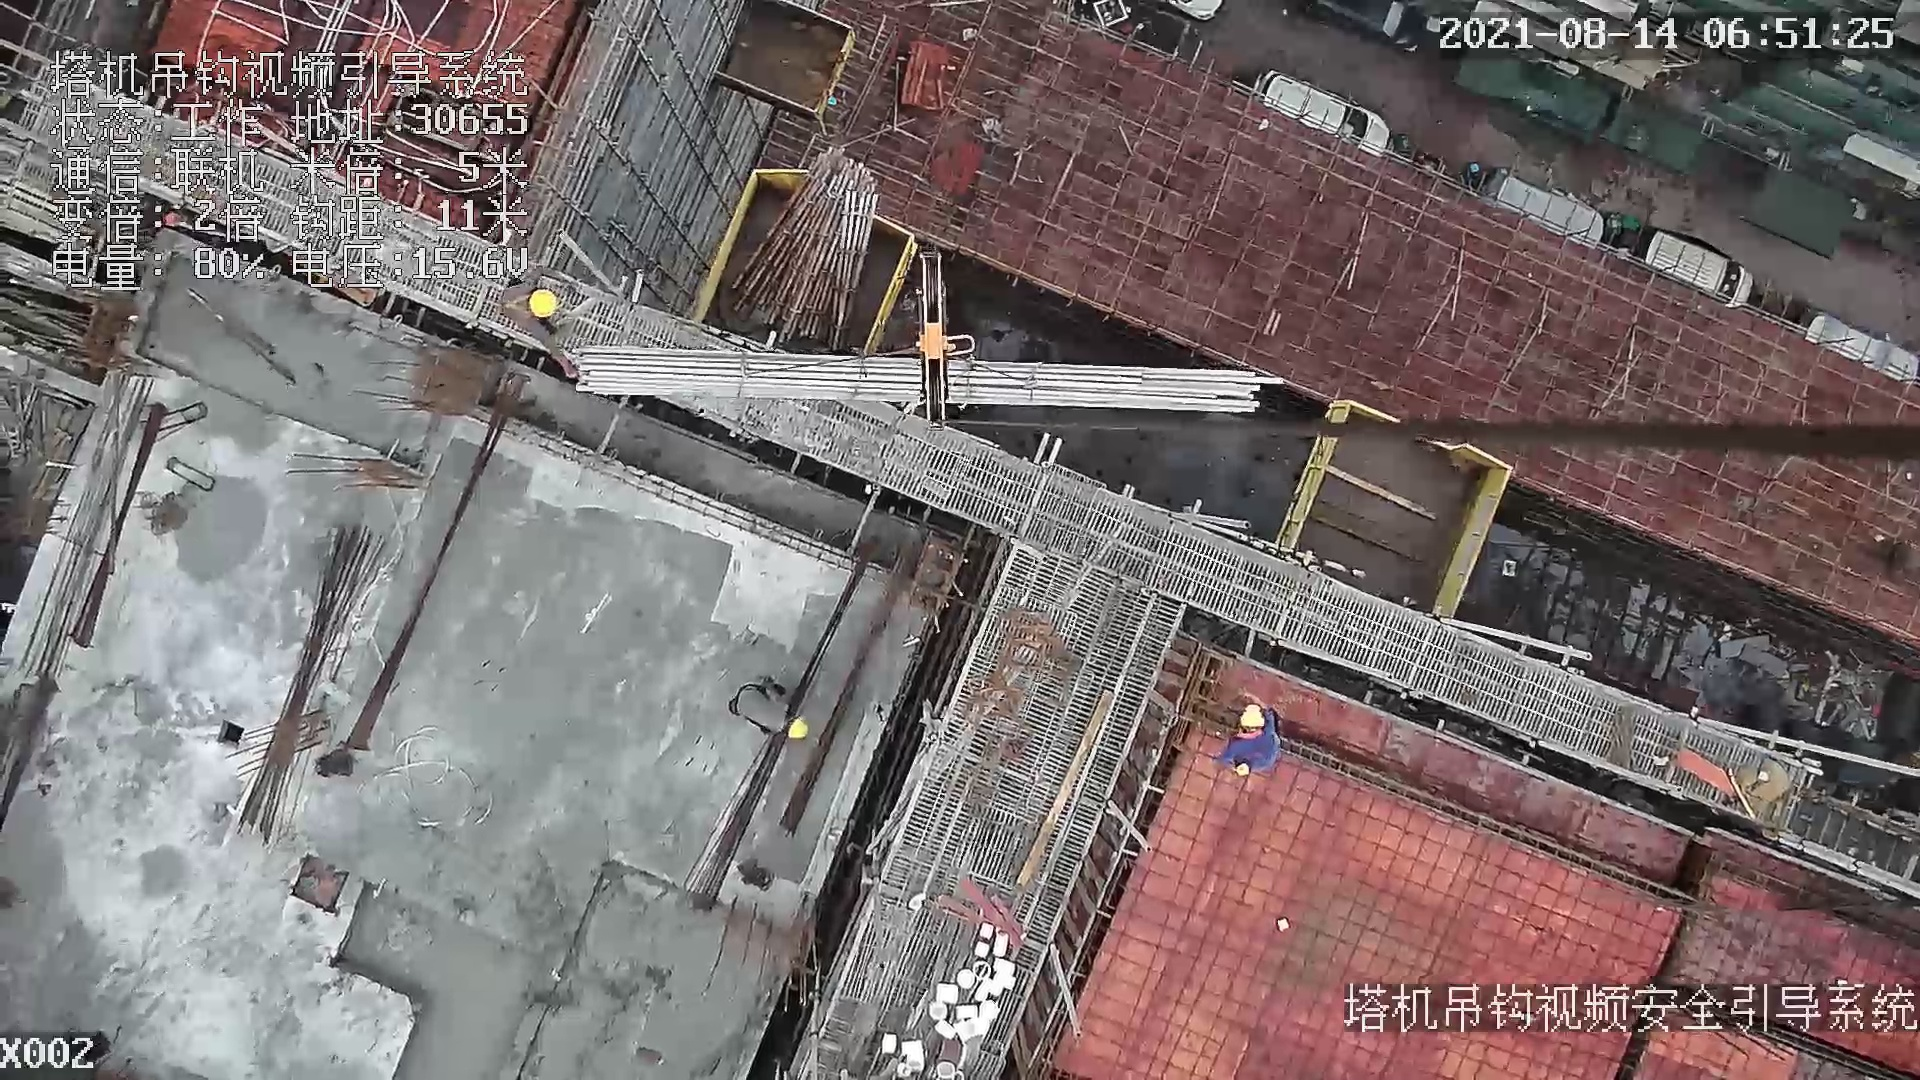helmet: (528, 288, 561, 320), (1238, 704, 1269, 731), (783, 716, 809, 741)
hook: (912, 242, 985, 433)
person: (488, 267, 577, 381), (1217, 694, 1288, 776), (733, 674, 814, 740)
rebar: (233, 524, 394, 846), (573, 347, 1283, 420)
scaffold: (733, 146, 879, 353)
